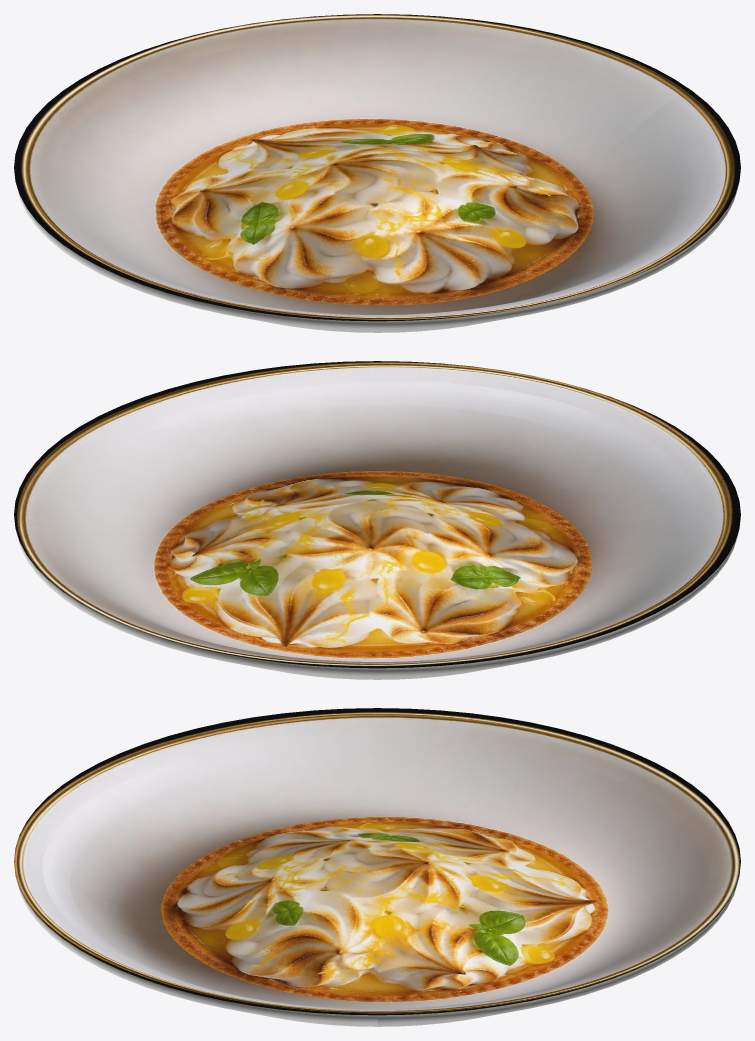
The model's file is tarte-citron.glb.
3 renders of one model, top to bottom at view 1: azimuth 30°, elevation 25°; view 2: azimuth 150°, elevation 25°; view 3: azimuth 270°, elevation 25°, orthographic.
Visible parts, largest first — view 1: dish; view 2: dish; view 3: dish.
Part boxes in pixels (bbox=[...]): dish: bbox=[14, 14, 740, 332]; dish: bbox=[14, 361, 740, 679]; dish: bbox=[14, 708, 740, 1026].
Bounding box in the file's own units: 0.24 × 0.025 × 0.24.
2 materials, 1 textured.
